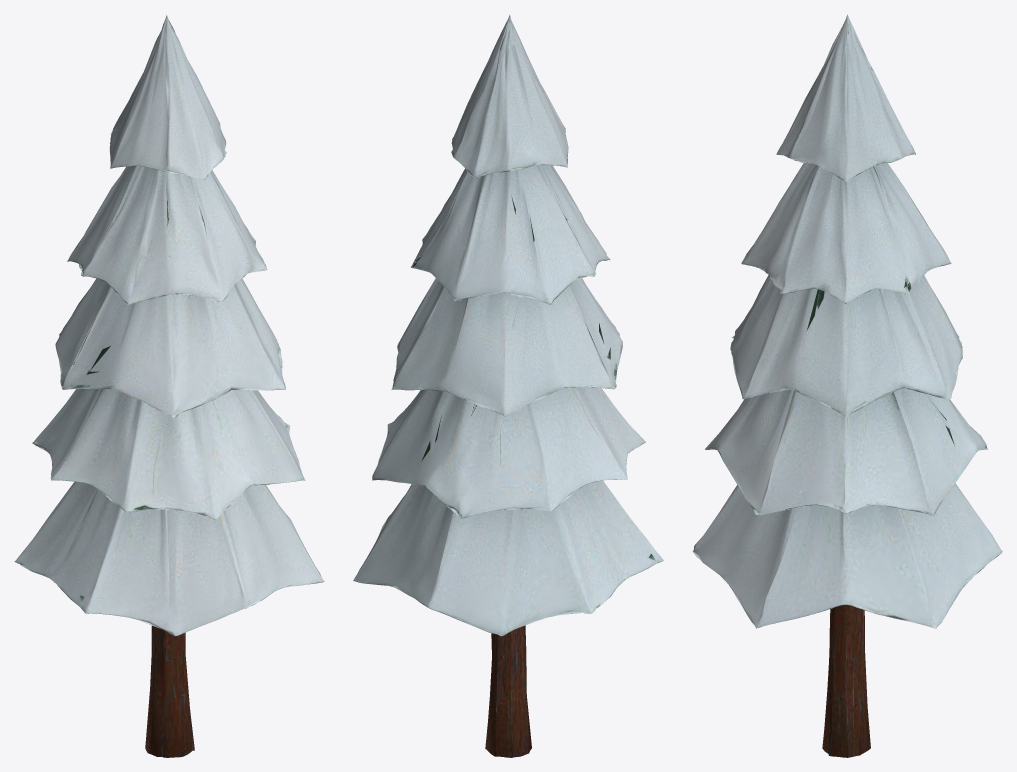
Rendered from tree_pine_snow_a.glb.
The picture shows the model from 3 angles, left to right: view 1: azimuth 30°, elevation 25°; view 2: azimuth 150°, elevation 25°; view 3: azimuth 270°, elevation 25°; orthographic projection.
Parts seen in each view (by area): view 1: Mesh_0; view 2: Mesh_0; view 3: Mesh_0.
Boxes of the visible parts, <box> form: Mesh_0: <box>14,14,324,757</box>; Mesh_0: <box>353,14,663,757</box>; Mesh_0: <box>692,14,1002,757</box>.
Bounding box in the file's own units: 0.6852 × 2 × 0.7673.
1 material, 1 textured.
